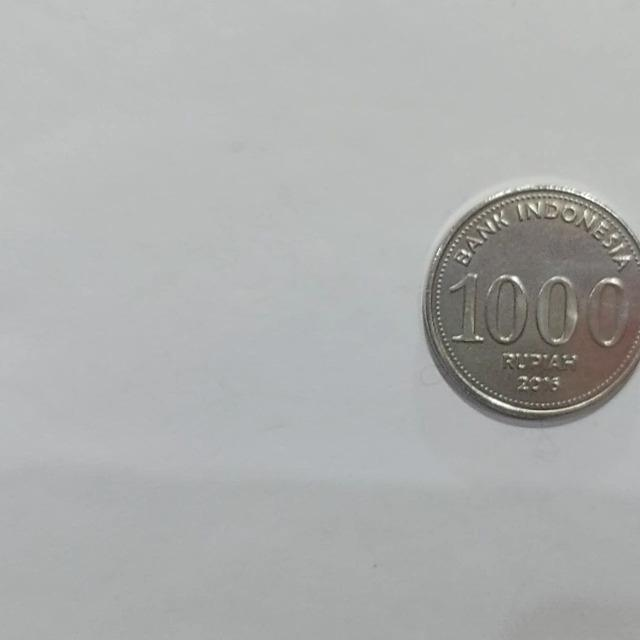Rp100: (420, 181, 640, 426)
